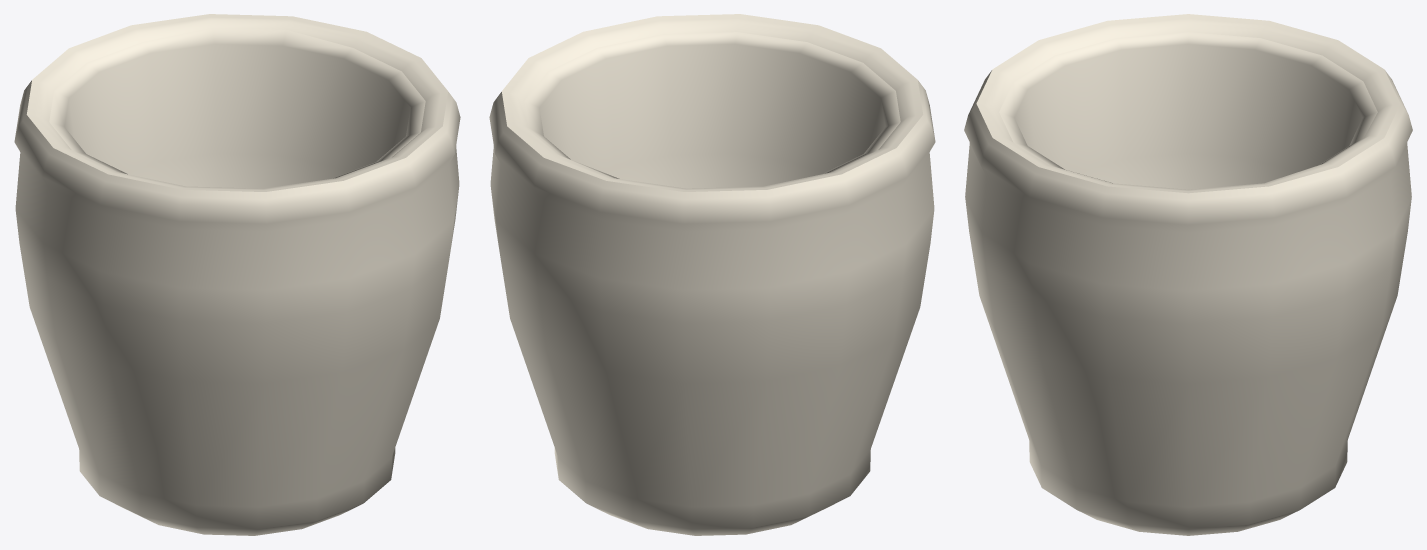
Rendered from vase.fbx.
The picture shows the model from 3 angles, left to right: view 1: azimuth 30°, elevation 25°; view 2: azimuth 150°, elevation 25°; view 3: azimuth 270°, elevation 25°; orthographic projection.
Parts seen in each view (by area): view 1: vase; view 2: vase; view 3: vase.
Boxes of the visible parts, <box> form: vase: <box>14,14,460,535</box>; vase: <box>489,14,935,535</box>; vase: <box>964,14,1412,535</box>.
Size of the model in its own units: 107 by 99.27 by 107.
